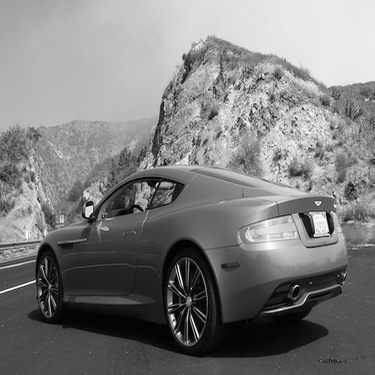car: (27, 162, 353, 357)
